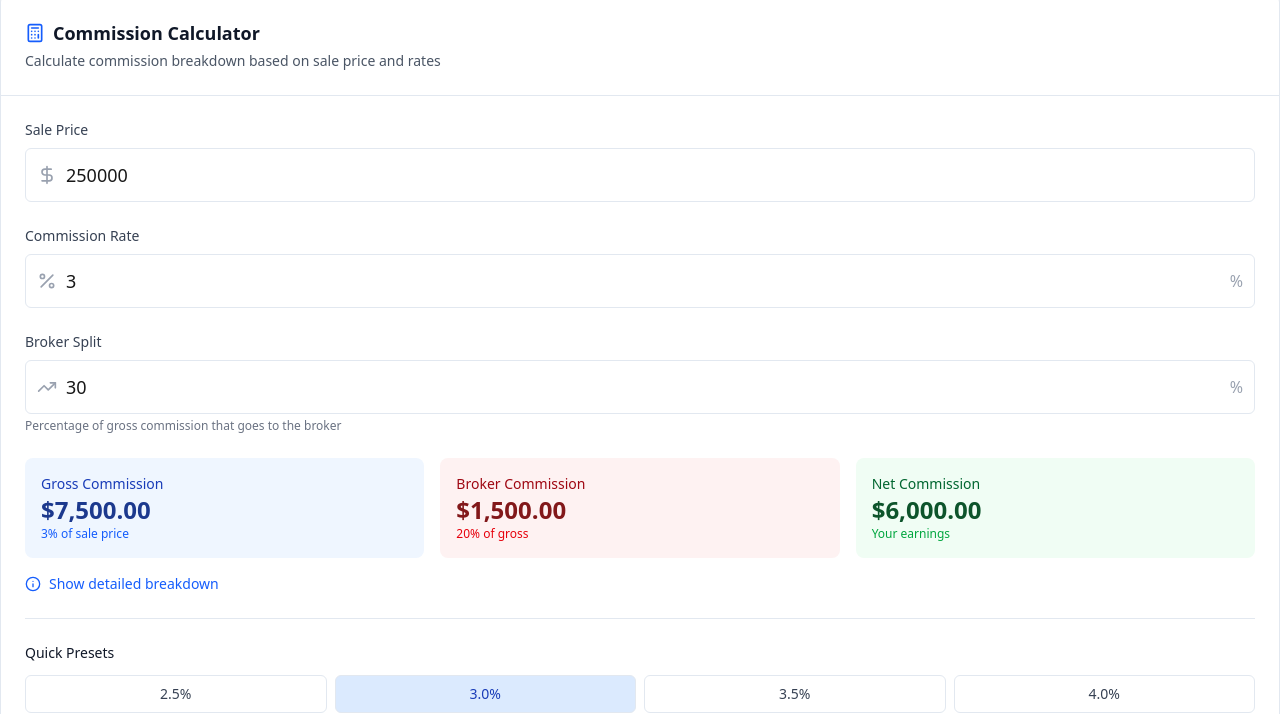
it: CommissionCalculator › should show commission distribution visualization
Click the button "Show detailed breakdown".
click(122, 584)  # box [25,574,219,594]
(page scrolled)
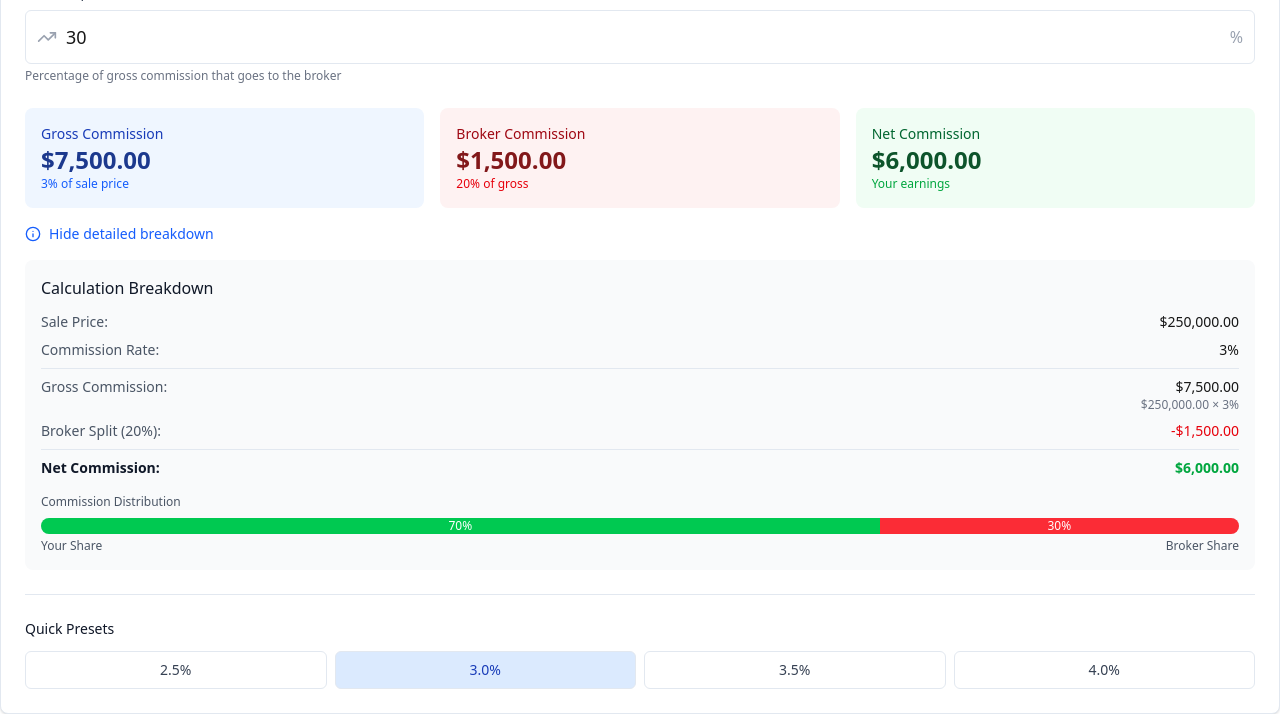
Expected: the text "Commission Distribution" is shown, [41,493,181,510]
Expected: the text "Your Share" is shown, [41,538,102,554]
Expected: the text "Broker Share" is shown, [1166,538,1239,554]
